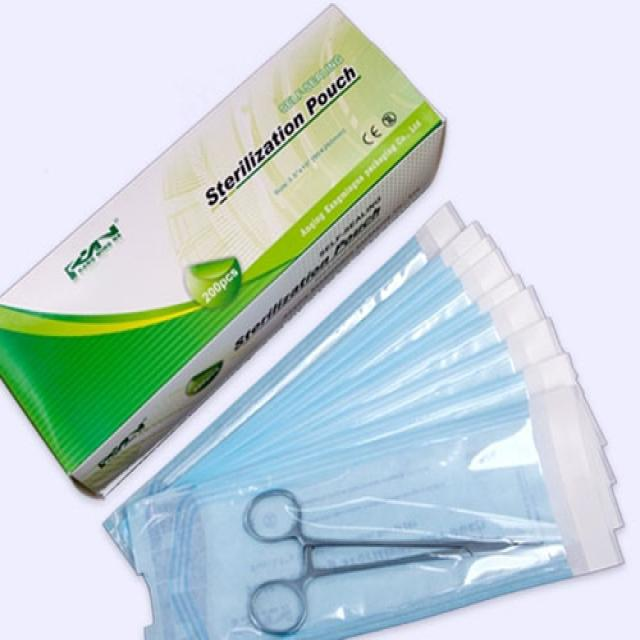B3: (178, 360, 639, 640)
